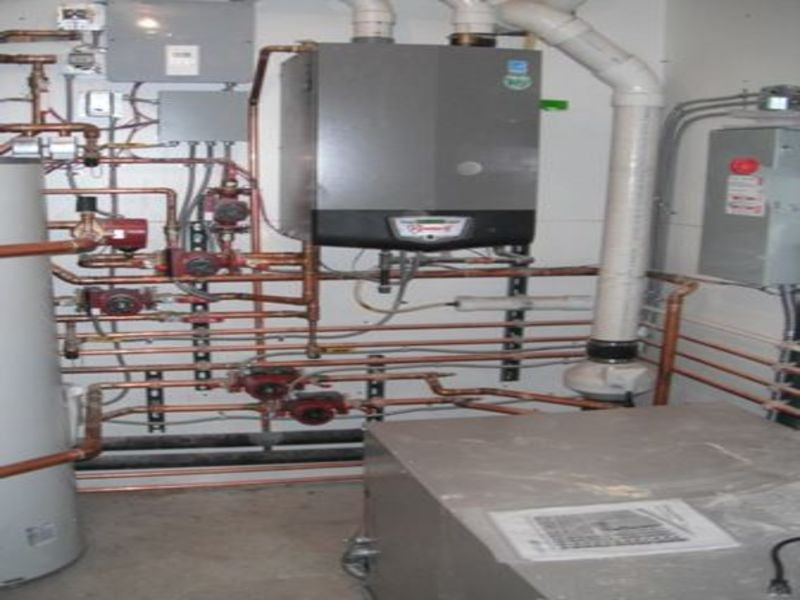valve: (100, 139, 153, 155), (302, 344, 359, 357)
